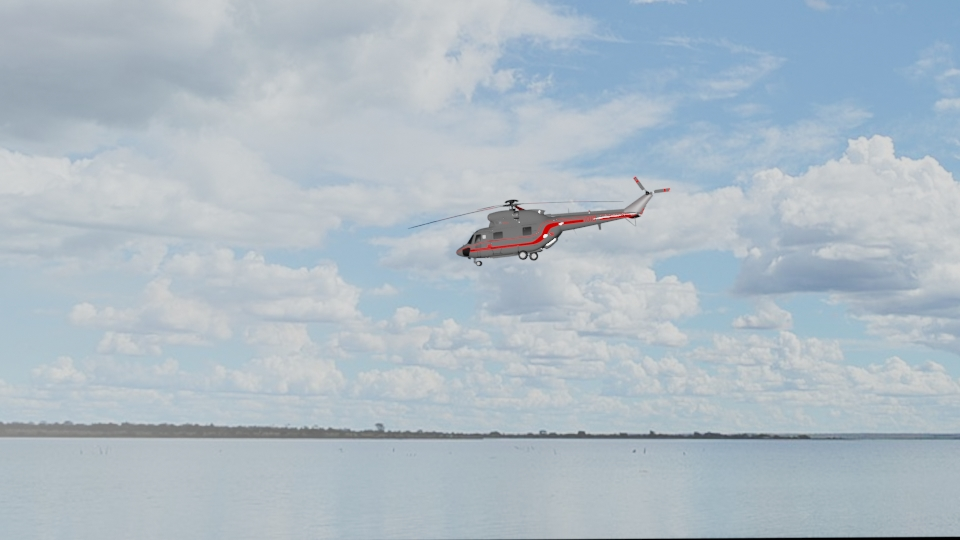heli: (454, 173, 670, 265)
